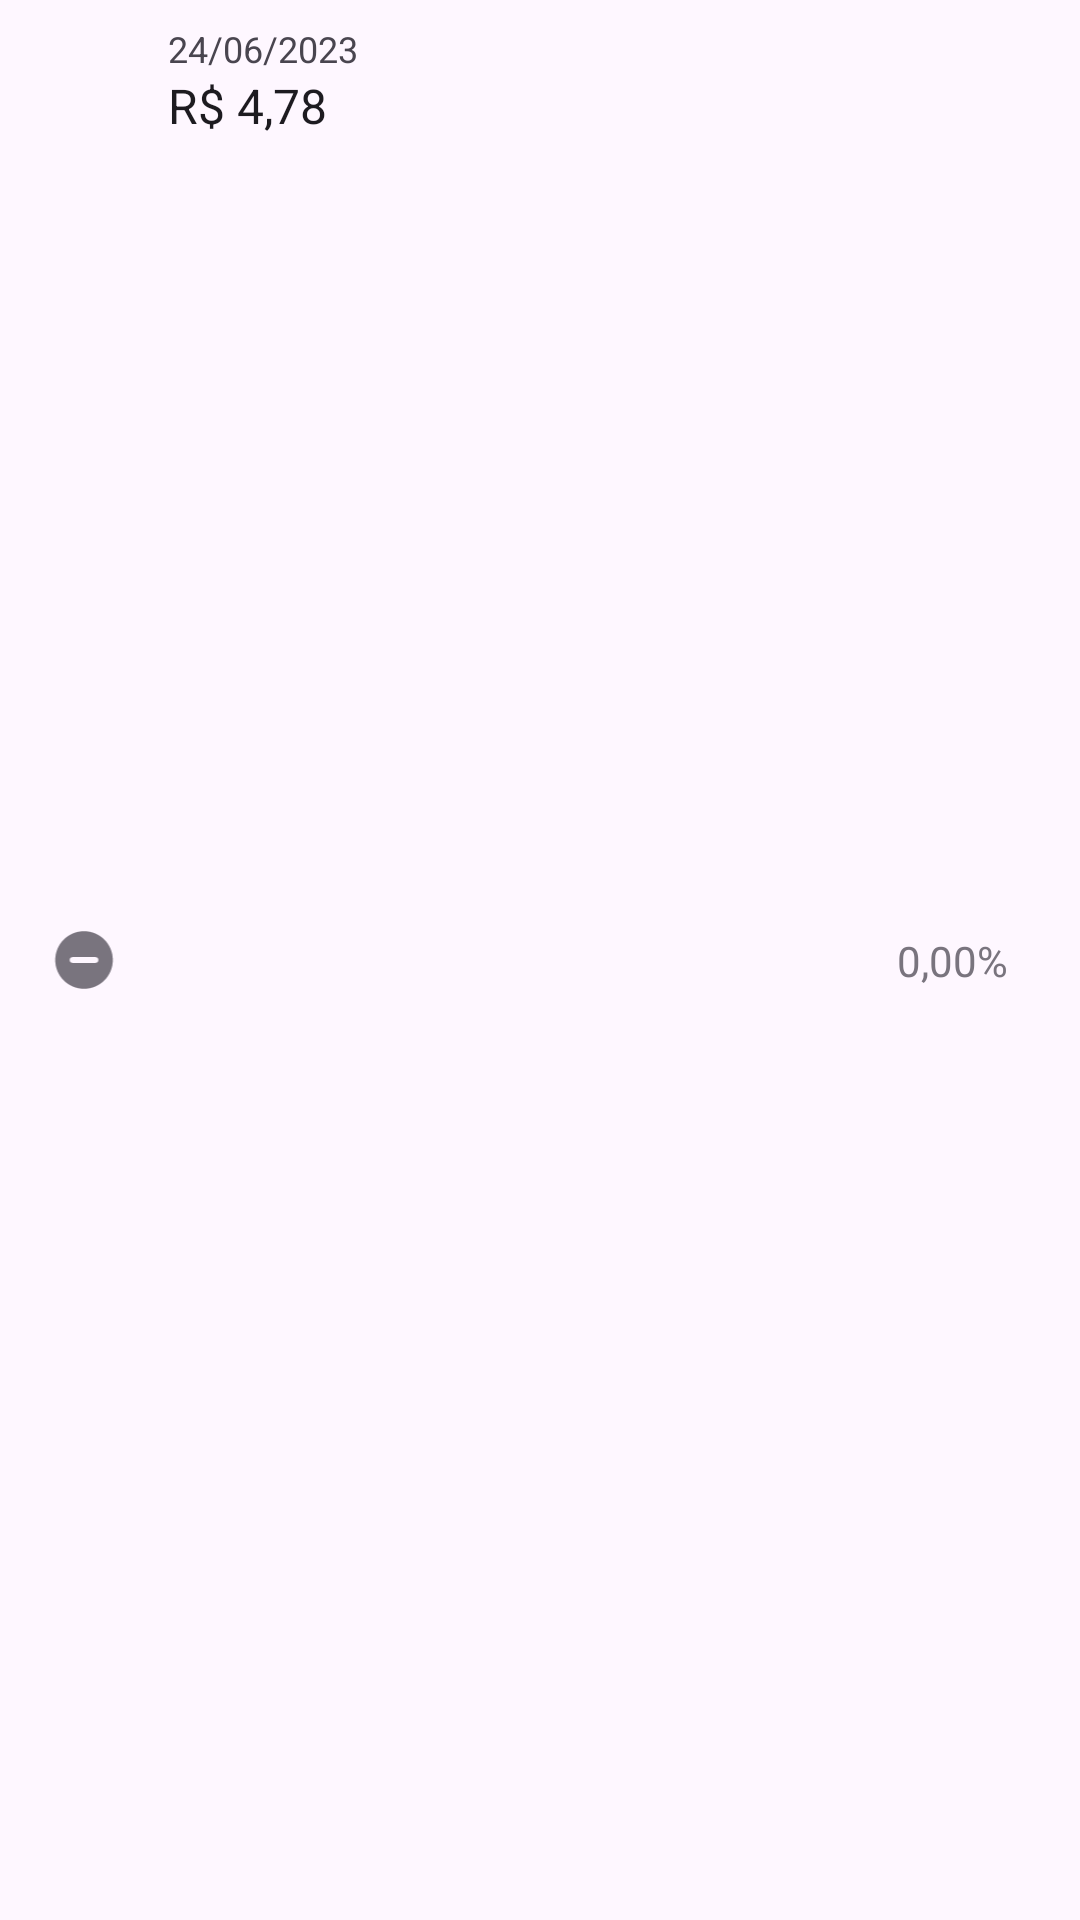

Icons on this 1080*1920 Android screen, each with the point to tap as [x,y]:
mingcute minus circle: [84,960]
